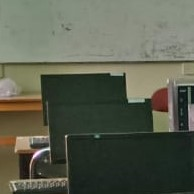monitor: (40, 72, 127, 164), (65, 131, 194, 192)
